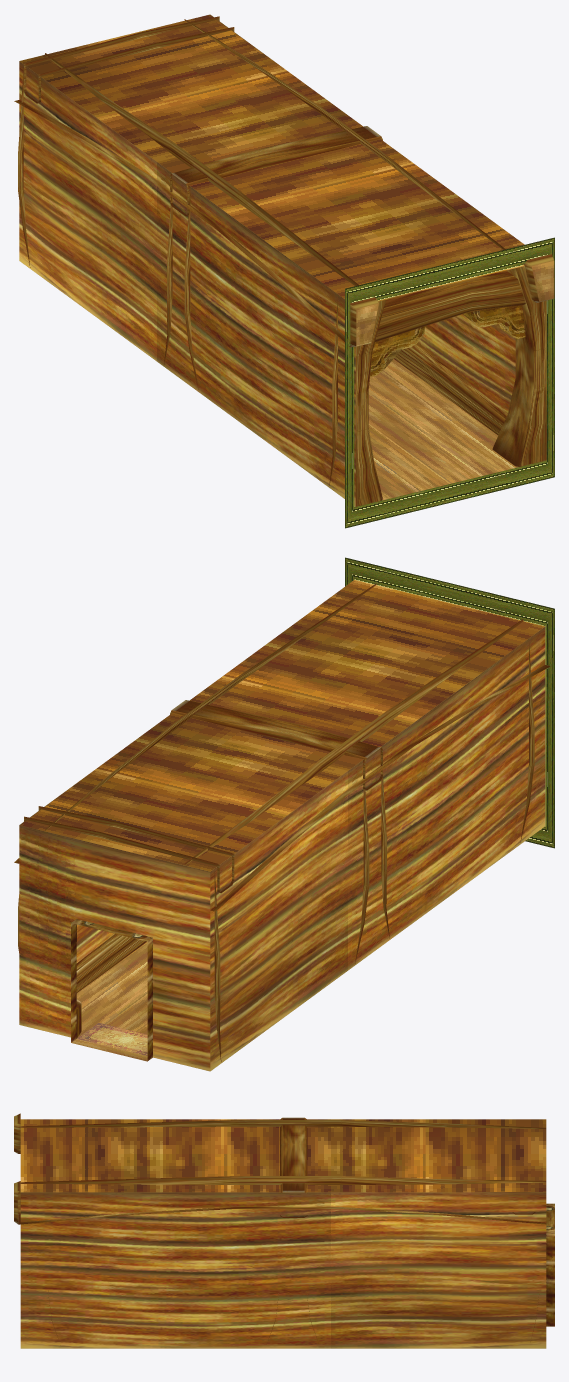
Rendered from room_54.glb.
The picture shows the model from 3 angles, top to bottom: view 1: azimuth 30°, elevation 25°; view 2: azimuth 150°, elevation 25°; view 3: azimuth 270°, elevation 25°; orthographic projection. The views are drawn at different scales.
Parts seen in each view (by area): view 1: room_54; view 2: room_54; view 3: room_54.
Part boxes in pixels (box(x1,y1,x2,y2)): room_54: box(14, 14, 554, 528); room_54: box(14, 557, 554, 1071); room_54: box(14, 1113, 554, 1348).
Bounding box in the file's own units: 550 × 600 × 1569.
Materials: 9 (9 with a texture image).
